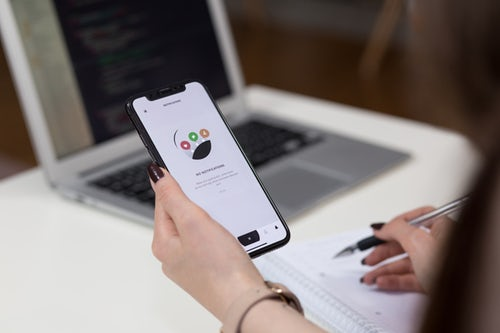phone: (124, 79, 291, 264)
